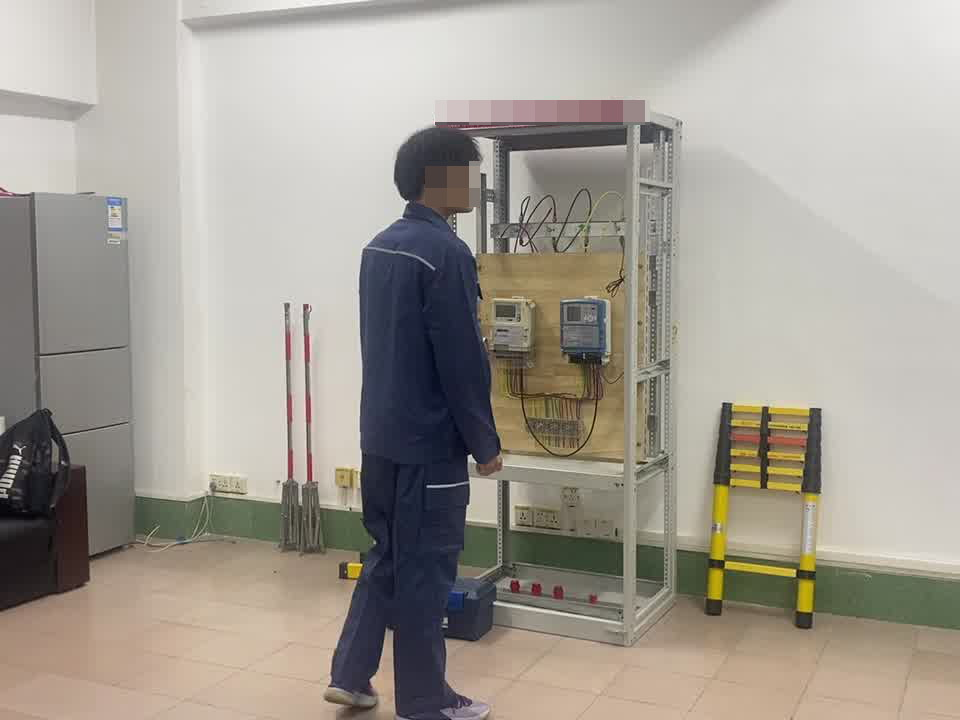downsuit: (337, 467, 474, 720)
hand: (477, 453, 504, 476)
noear: (423, 166, 450, 196)
person: (323, 126, 514, 719)
unhalt: (395, 128, 484, 215)
upsuit: (354, 218, 497, 463)
